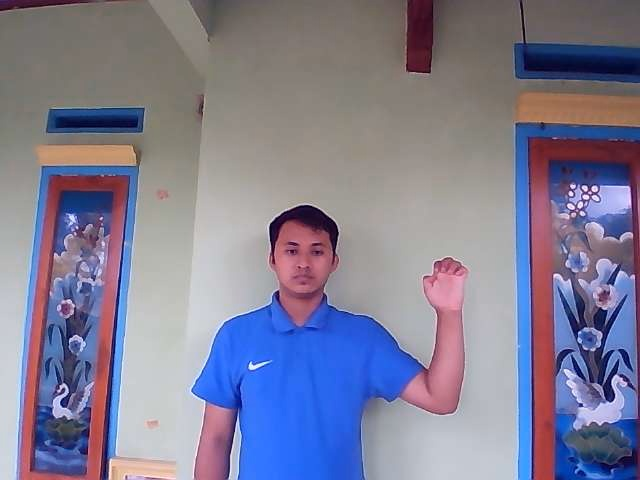E: (421, 256, 468, 313)
